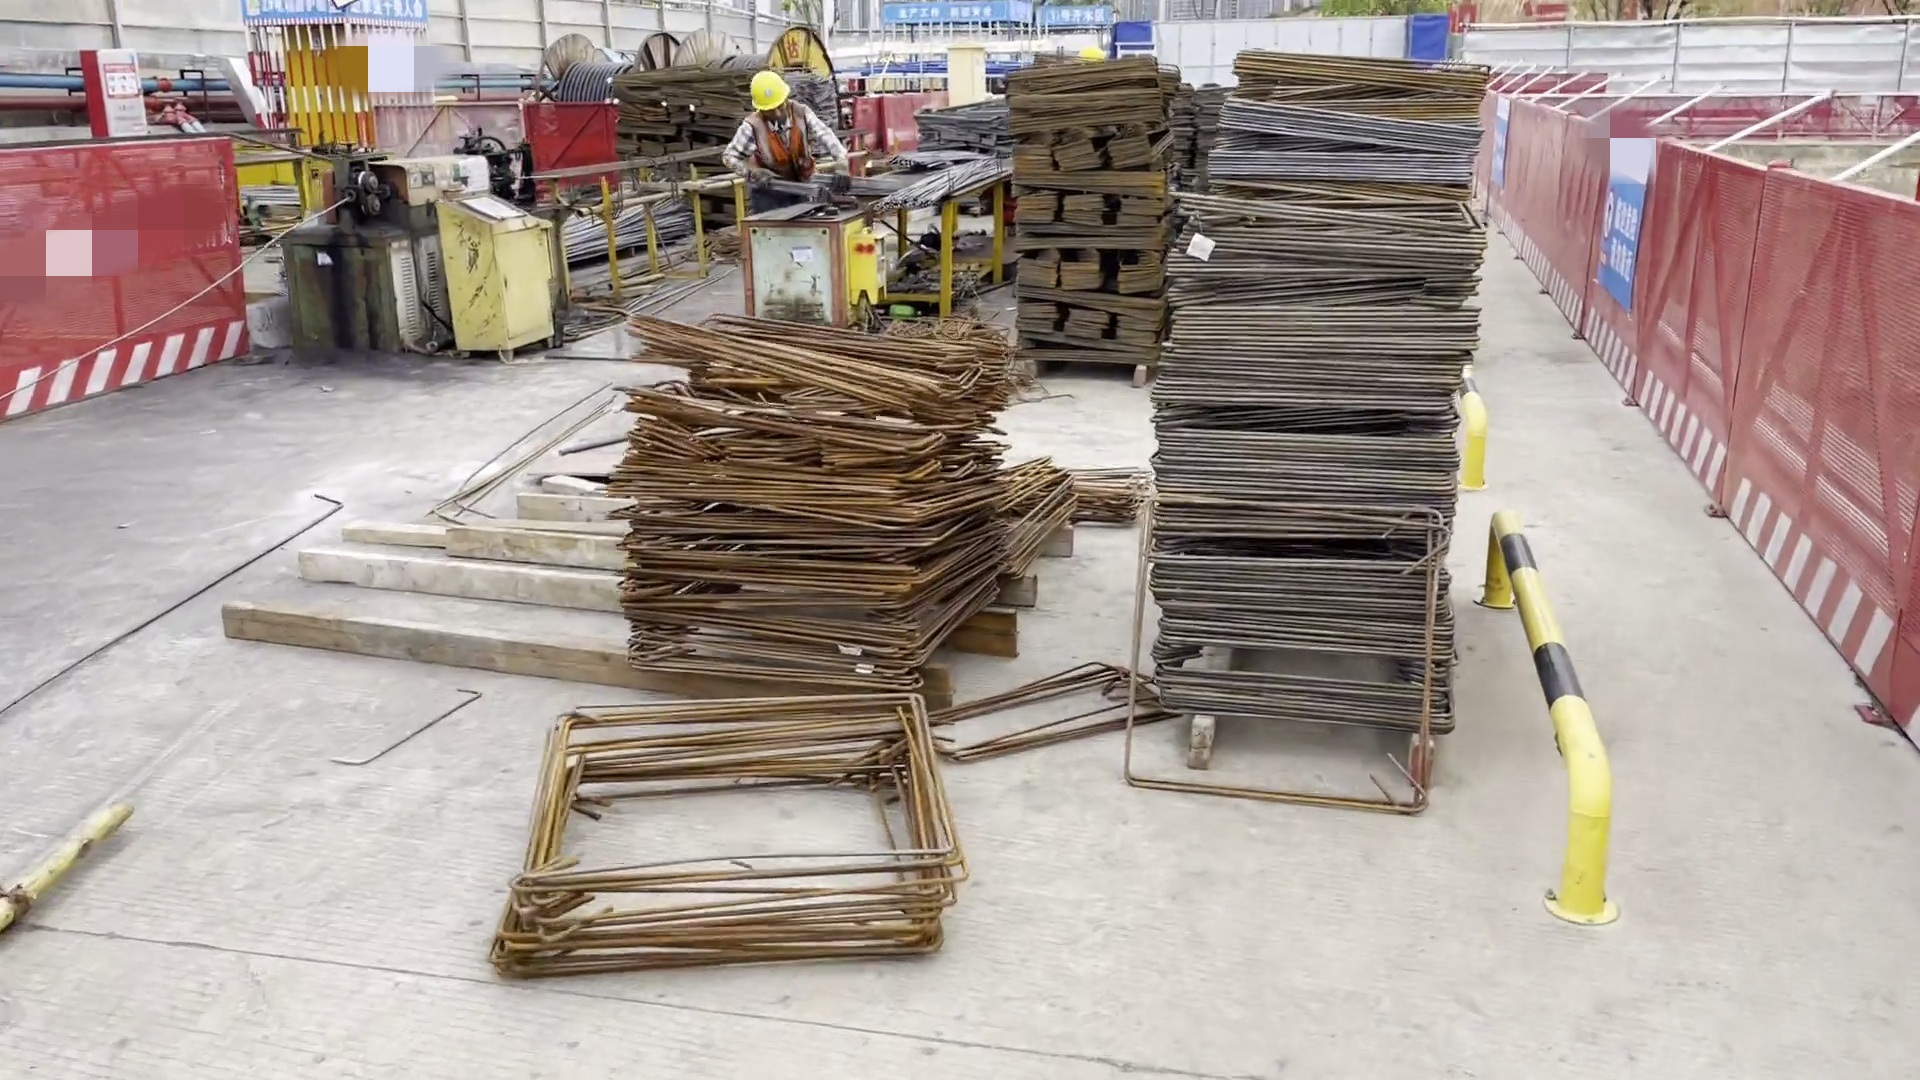cutter: (725, 184, 913, 339), (284, 138, 418, 274)
ebox: (427, 189, 557, 363), (261, 35, 403, 170), (917, 35, 996, 119)
fence: (1646, 147, 1920, 773), (1476, 95, 1685, 455), (1, 139, 257, 428), (1591, 84, 1920, 158)
helmet: (743, 68, 798, 111)
person: (709, 61, 870, 193)
rebar: (873, 128, 1006, 218), (552, 199, 698, 264)
slogan: (1583, 134, 1663, 341), (864, 1, 1131, 45), (233, 1, 435, 38), (1481, 92, 1530, 204)
vest: (726, 107, 839, 180)
